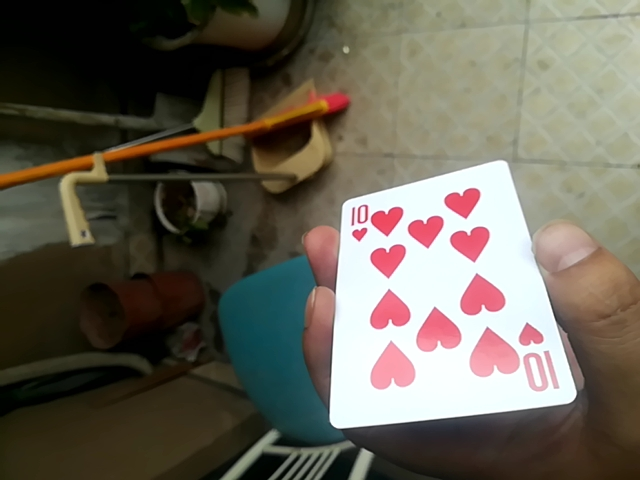hx 10: (324, 158, 576, 431)
